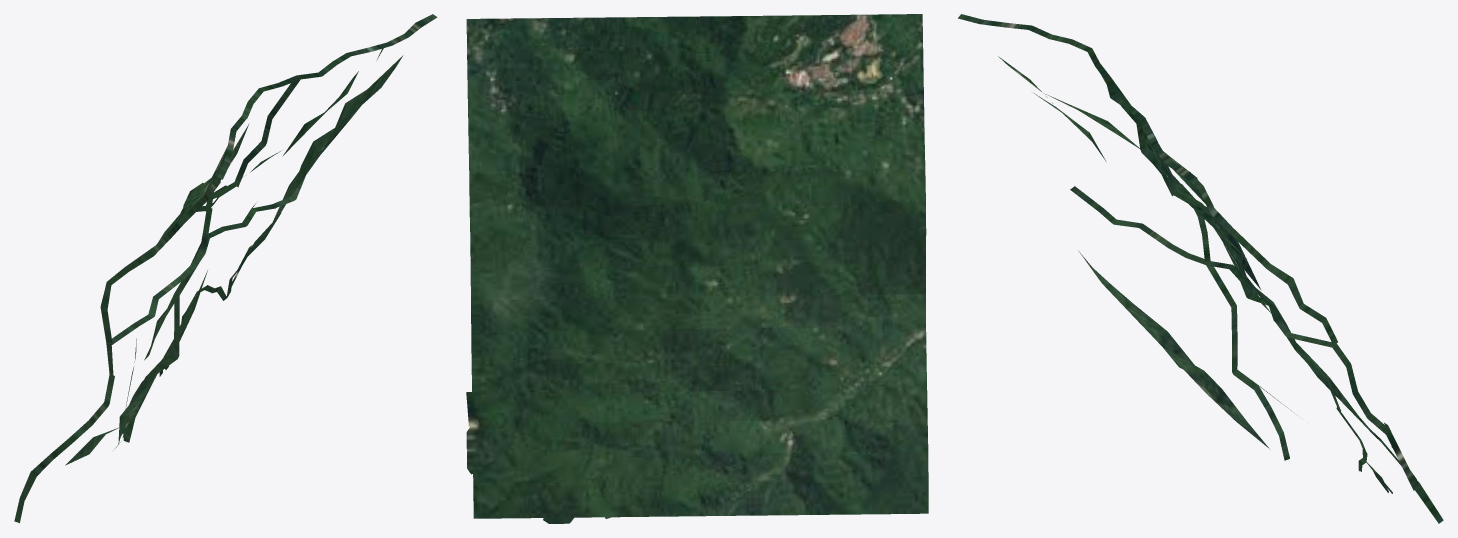
3 views of the same model, side by side, from view 1: azimuth 30°, elevation 25°; view 2: azimuth 150°, elevation 25°; view 3: azimuth 270°, elevation 25° (orthographic). The views are drawn at different scales.
Bounding box in the file's own units: 5044 × 4556 × 4603.
Materials: 1 (1 with a texture image).
